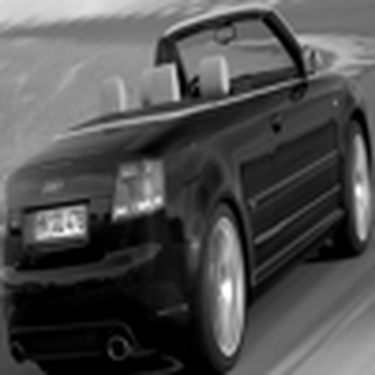car: (4, 5, 370, 373)
